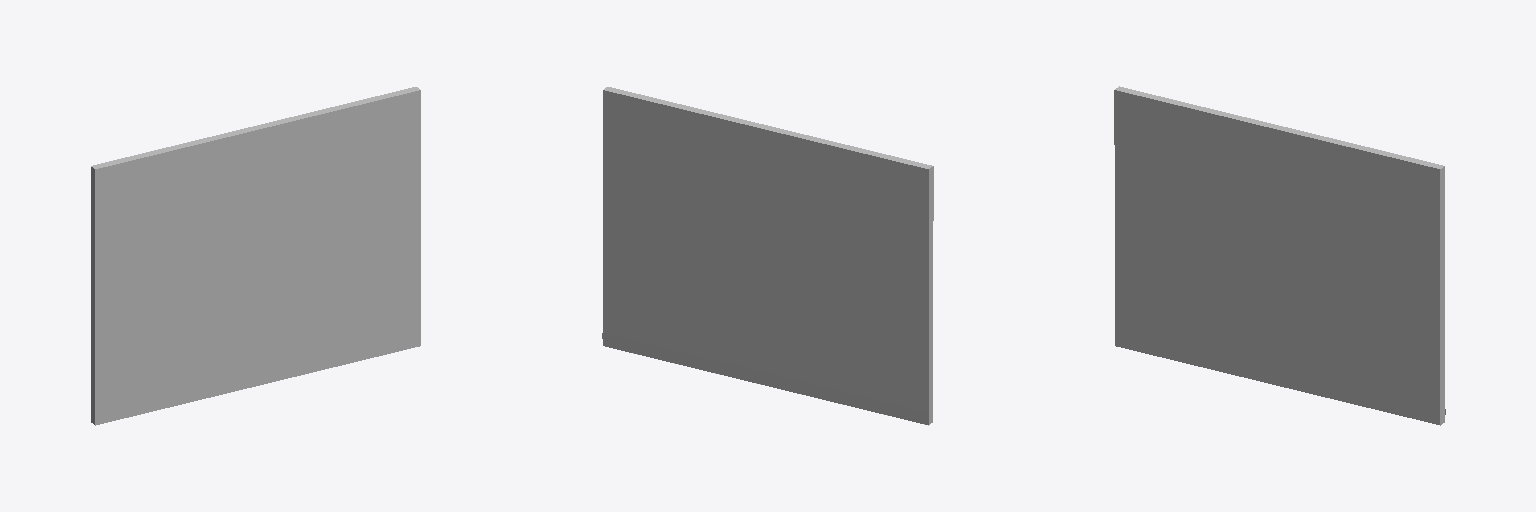
File: BackGround Wall Con.obj
The picture shows the model from 3 angles: view 1: azimuth 30°, elevation 25°; view 2: azimuth 150°, elevation 25°; view 3: azimuth 330°, elevation 25°; orthographic projection.
Visible parts, largest first — view 1: Floor_Base.014; view 2: Floor_Base.014; view 3: Floor_Base.014.
Boxes of the visible parts, x1,y1,x2,y2 form: Floor_Base.014: [91, 87, 420, 425]; Floor_Base.014: [602, 87, 933, 425]; Floor_Base.014: [1114, 86, 1445, 425].
Bounding box in the file's own units: 24.03 × 18.03 × 0.6131.